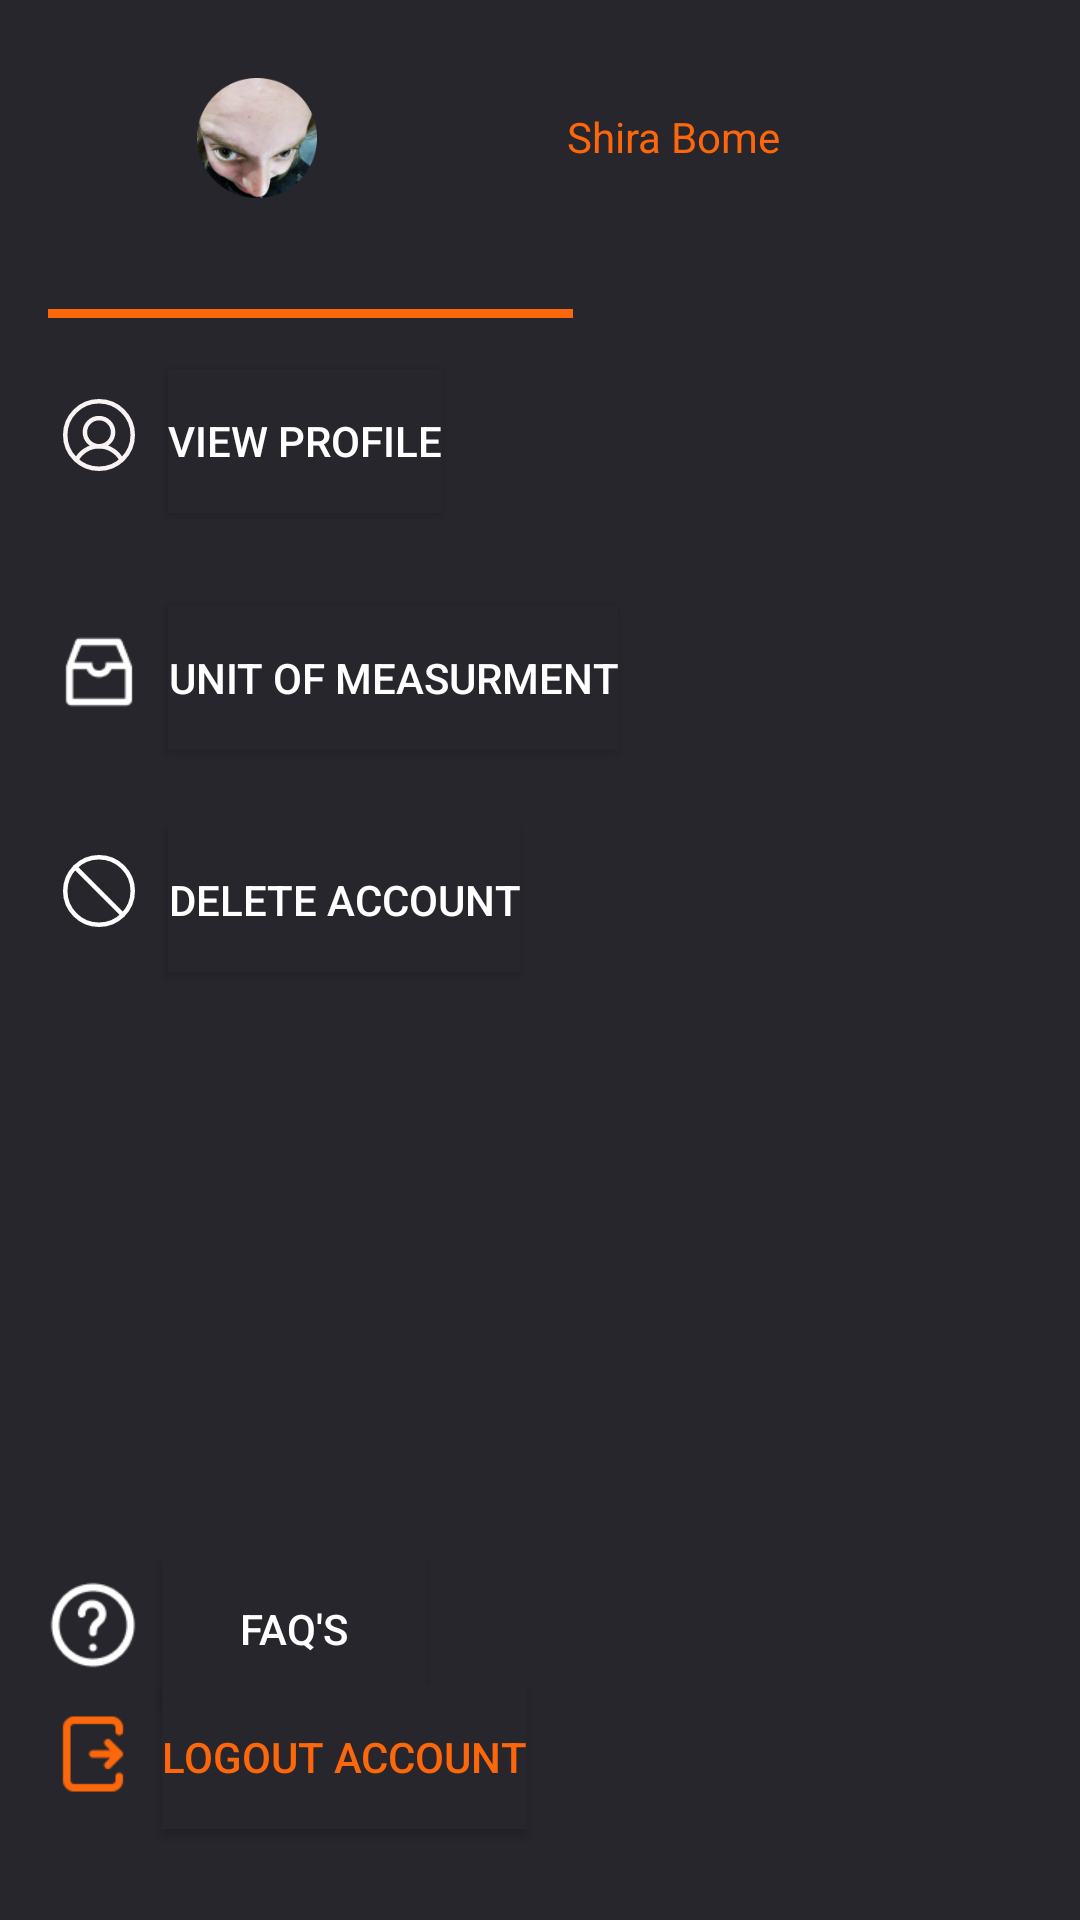

Where to tap for icons on this 1080w x 1920h app screen, as (x=x, y=y):
help circle: (x=93, y=1625)
inbox: (x=99, y=672)
prohibit: (x=99, y=891)
user circle: (x=99, y=435)
